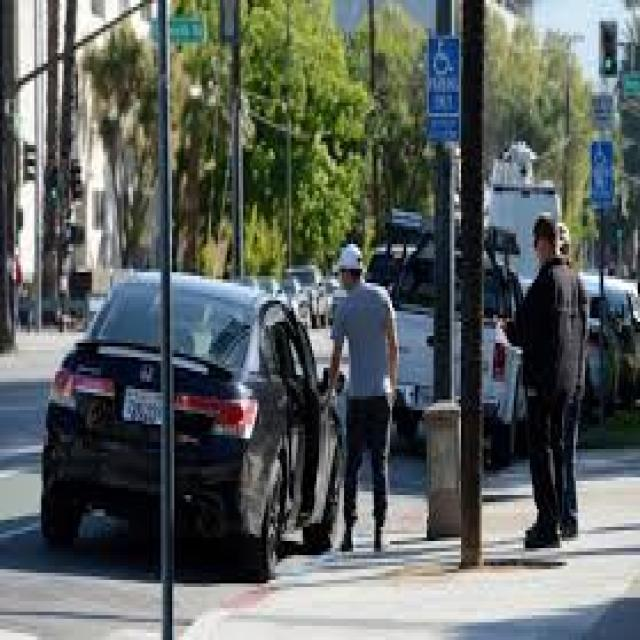car-handicap-placard: (426, 36, 460, 88), (591, 138, 613, 178)
